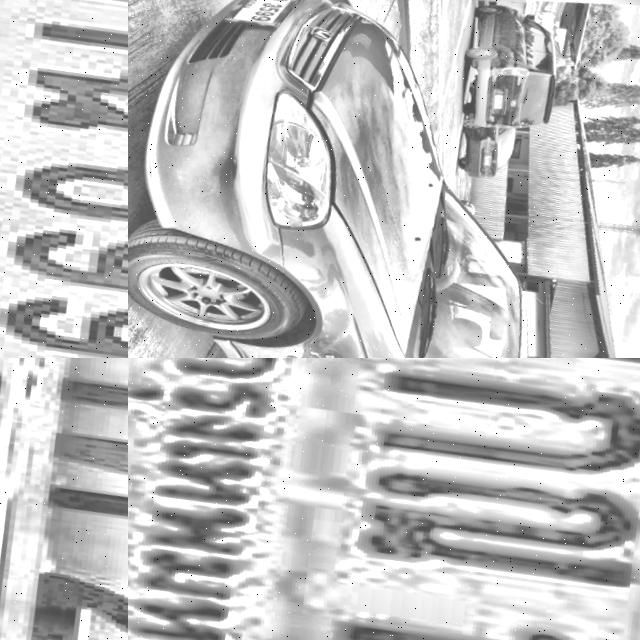license-plate: (128, 358, 640, 640), (0, 0, 128, 358), (0, 358, 128, 640), (210, 0, 305, 43)
